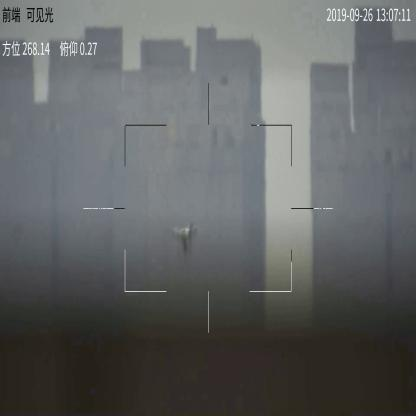uav: (172, 223, 200, 250)
